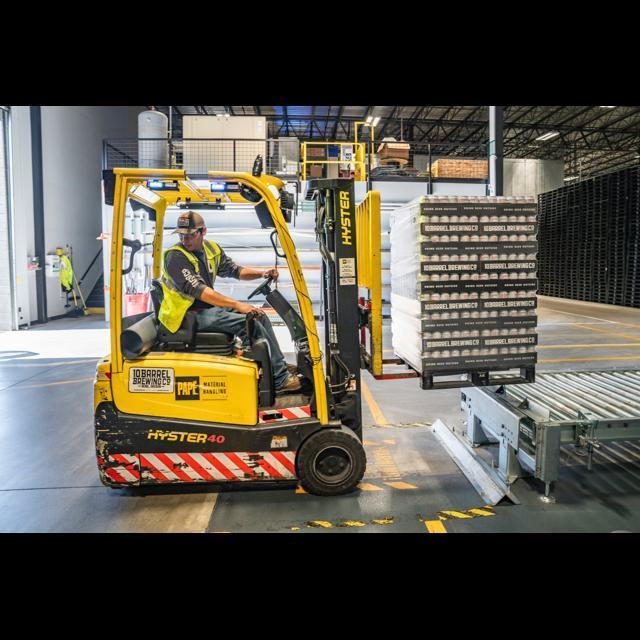Colete: (158, 245, 198, 332)
